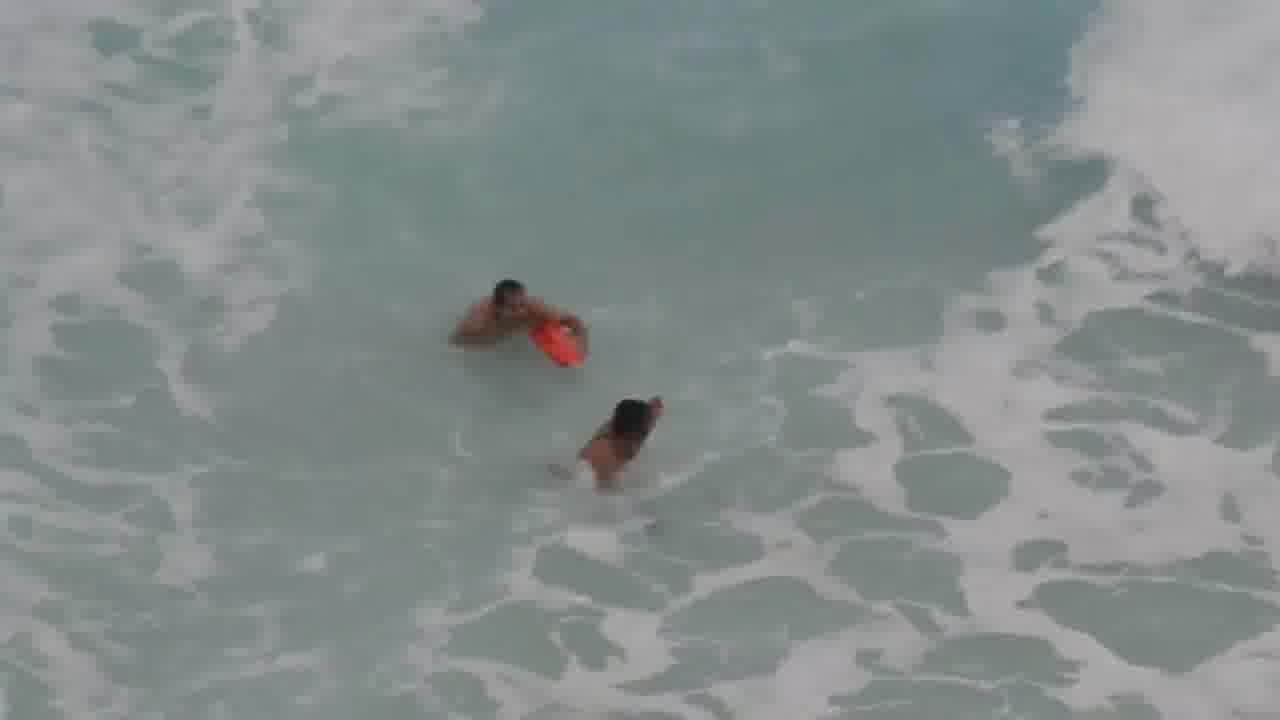human: (445, 278, 600, 366), (566, 389, 677, 489)
